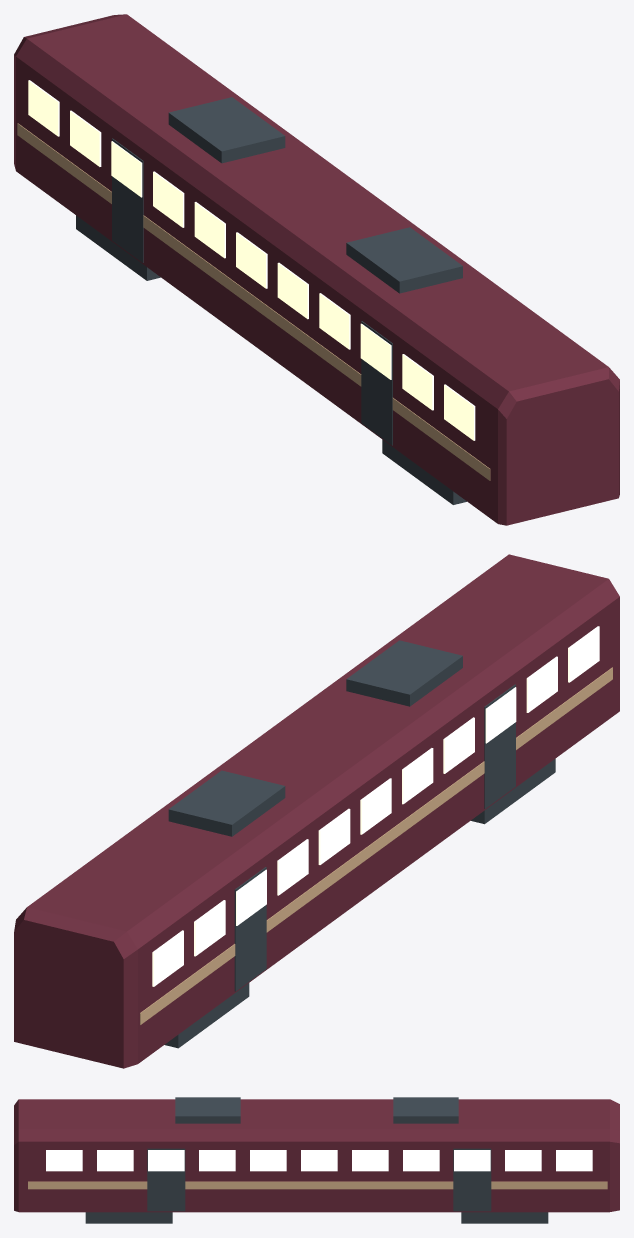
Rendered from private-car.glb.
3 views of the same model, one above another, from view 1: azimuth 30°, elevation 25°; view 2: azimuth 150°, elevation 25°; view 3: azimuth 270°, elevation 25° (orthographic). The views are drawn at different scales.
Bounding box in the file's own units: 2.87 × 3.6 × 19.5.
